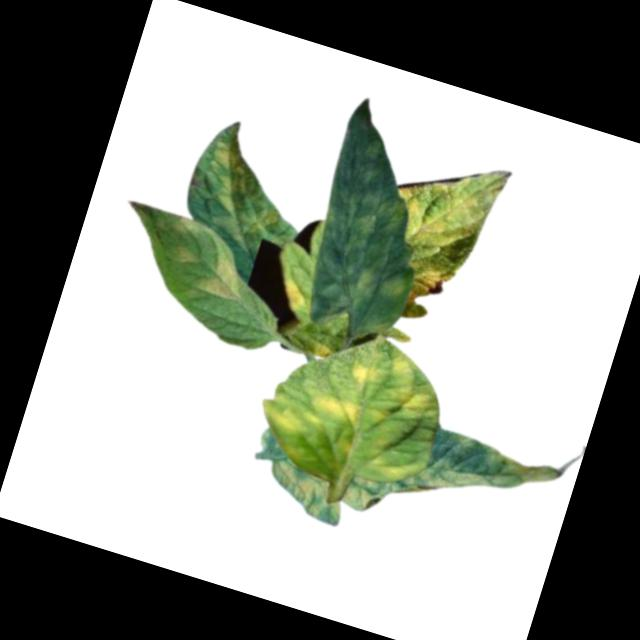Leaf_Mold: (248, 311, 458, 502), (290, 97, 455, 338), (383, 140, 514, 268), (418, 426, 572, 534), (189, 128, 303, 254), (258, 452, 354, 527), (406, 260, 456, 313), (203, 256, 247, 302), (274, 274, 312, 316), (170, 241, 206, 269)
